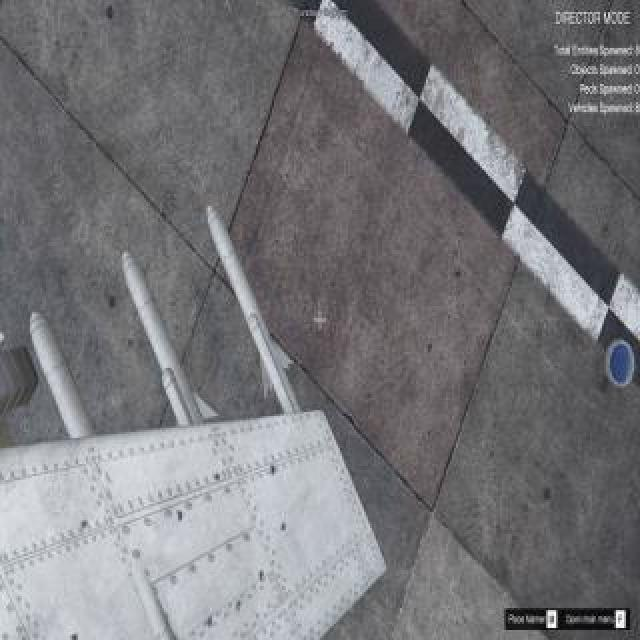crack: (173, 505, 185, 525), (269, 458, 279, 478), (80, 515, 90, 535), (235, 596, 243, 616), (280, 516, 288, 534), (205, 611, 213, 629), (257, 569, 265, 581), (213, 471, 221, 483), (72, 629, 80, 639)
